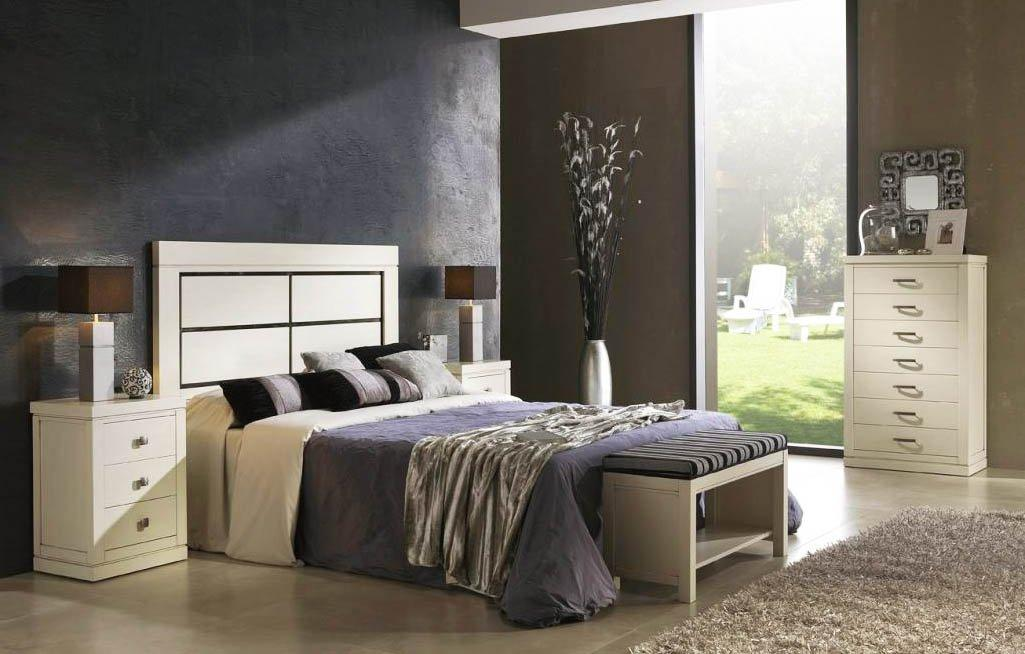bed: (197, 206, 763, 597)
